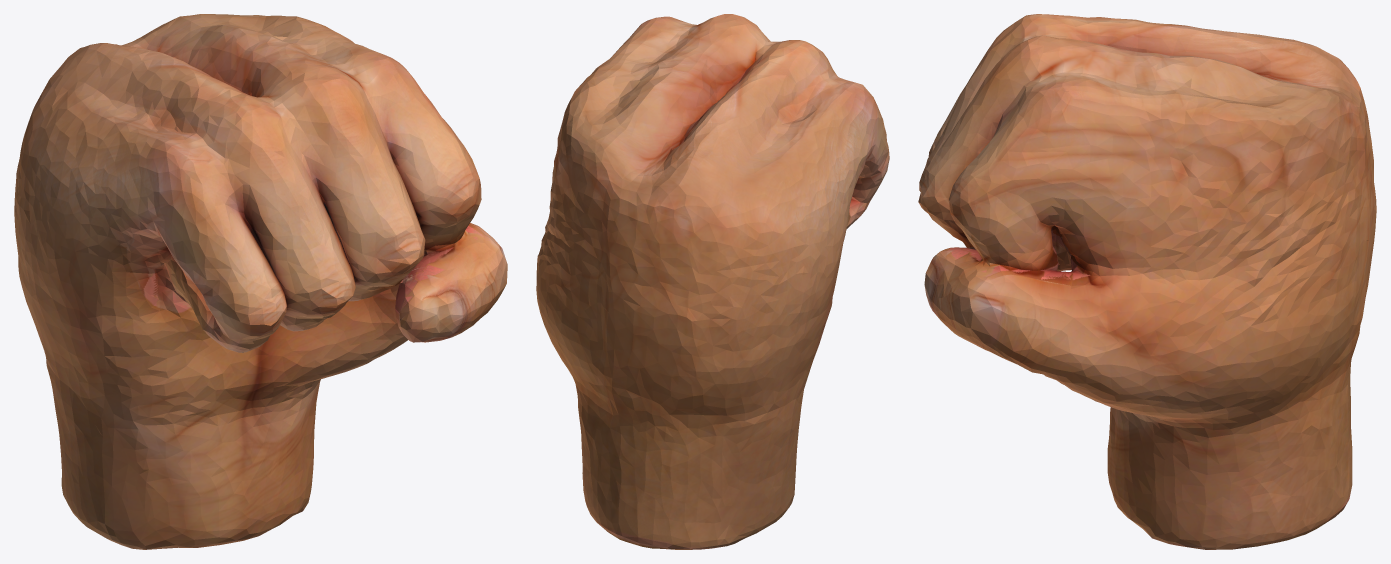
The model's file is Fist_Gesture_0514104802_texture.fbx.
The picture shows the model from 3 angles, left to right: view 1: azimuth 30°, elevation 25°; view 2: azimuth 150°, elevation 25°; view 3: azimuth 270°, elevation 25°; orthographic projection. The views are drawn at different scales.
Parts seen in each view (by area): view 1: temp; view 2: temp; view 3: temp.
Part boxes in pixels (<box>): temp: <box>14,14,507,549</box>; temp: <box>536,14,889,549</box>; temp: <box>918,14,1376,549</box>.
Bounding box in the file's own units: 155 × 199 × 172.
1 material, 1 textured.
